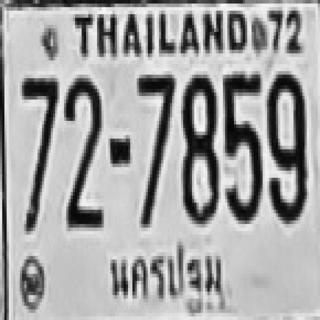N02: (64, 76, 99, 226)
N05: (223, 71, 260, 220)
N07: (20, 74, 57, 228), (136, 71, 173, 224), (20, 75, 57, 210), (20, 75, 57, 178)
N08: (181, 71, 216, 220)
N09: (265, 71, 305, 220)
P28: (108, 236, 230, 316)
